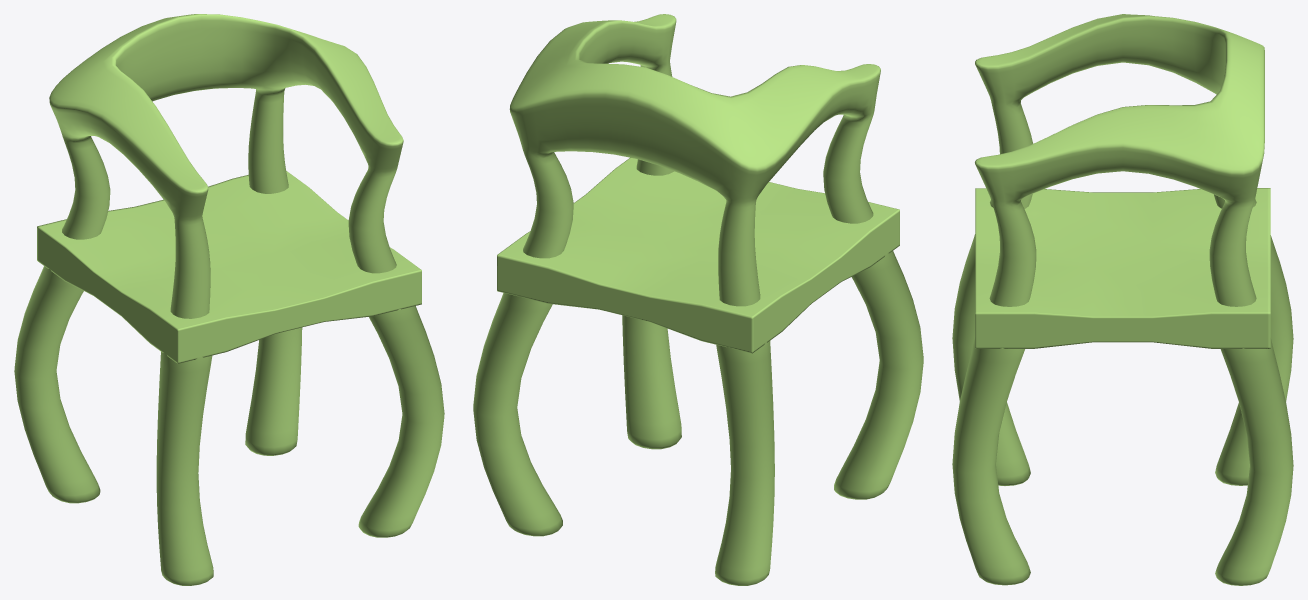
The model's file is chair.glb.
3 views of the same model, side by side, from view 1: azimuth 30°, elevation 25°; view 2: azimuth 150°, elevation 25°; view 3: azimuth 270°, elevation 25° (orthographic). The views are drawn at different scales.
Parts seen in each view (by area): view 1: Object_2; view 2: Object_2; view 3: Object_2.
Part boxes in pixels (left/top/right/bottom): Object_2: left=14, top=14, right=444, bottom=585; Object_2: left=473, top=14, right=923, bottom=585; Object_2: left=952, top=14, right=1293, bottom=585.
Bounding box in the file's own units: 1.07 × 1.65 × 1.07.
